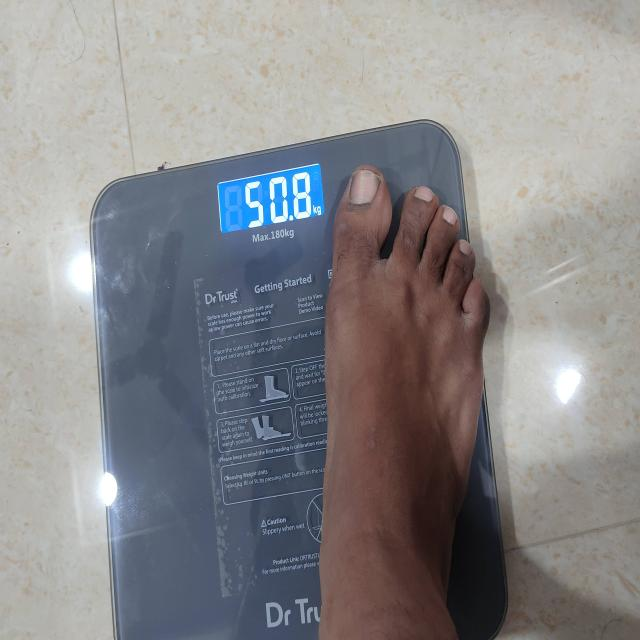ws: (88, 119, 505, 640)
